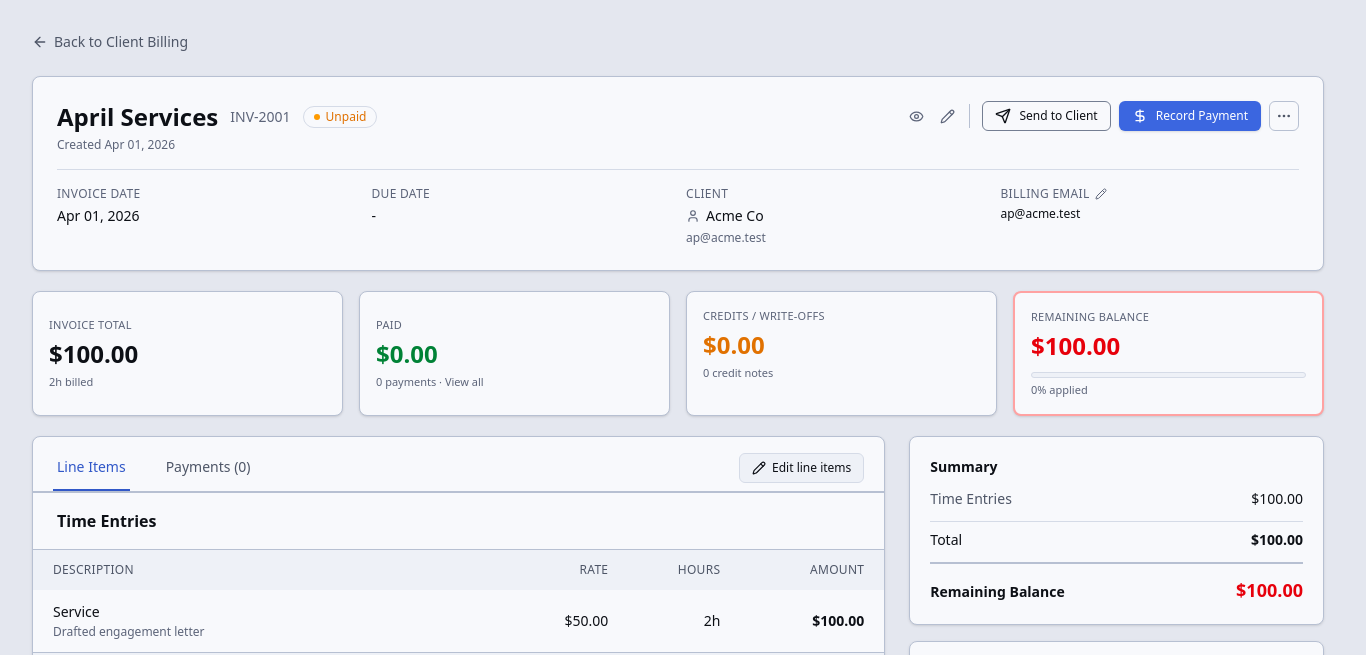
Scenario: a draft invoice › says the name is required instead of silently not saving
Click the button named "Edit invoice details".
click(948, 116)  # box [934,102,961,130]
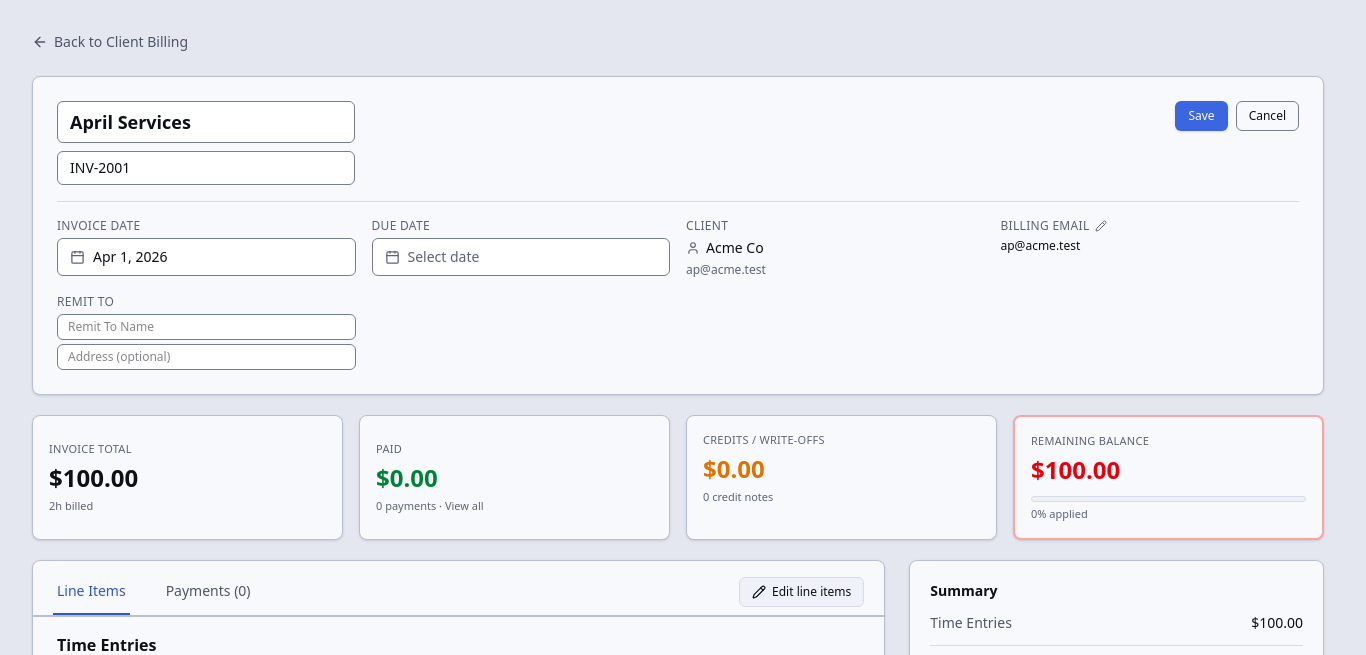
Clear the 1st field with placeholder "Invoice Name" at [206, 122], box [57,101,355,143]
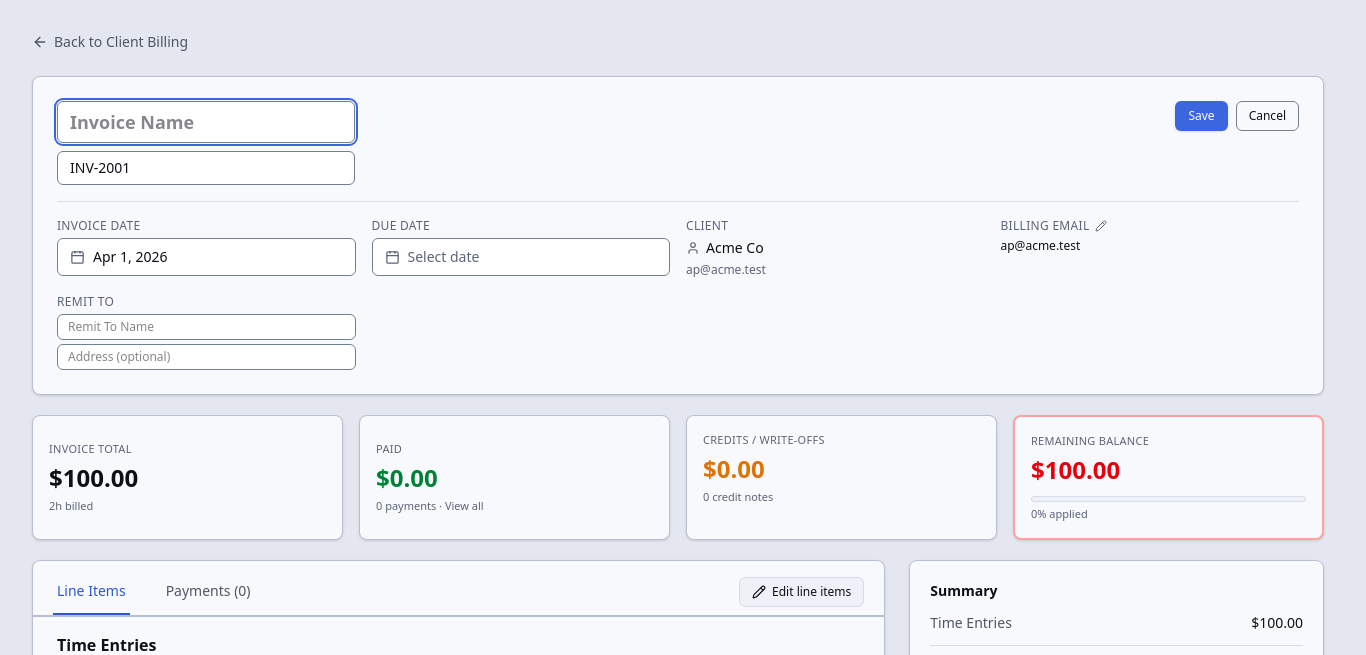
Click the button "Save".
click(1202, 116)  # box [1176,101,1228,131]
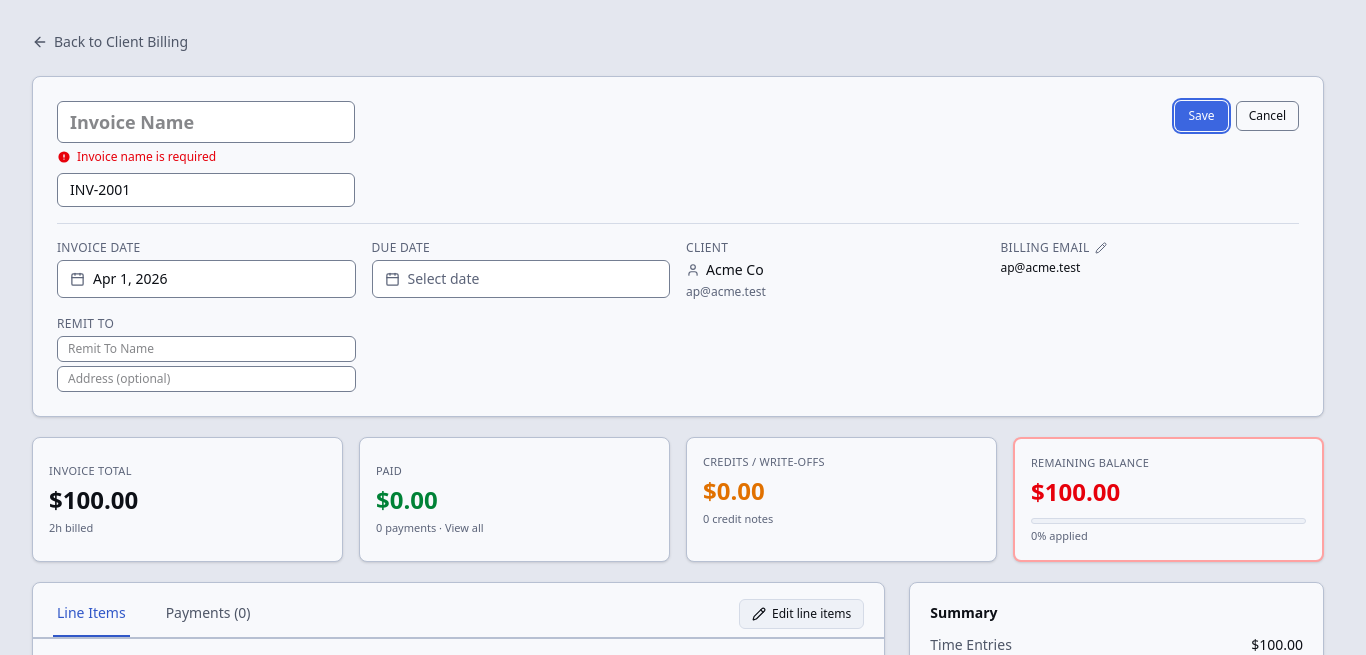
Now the text "Invoice name is required" is shown, box [77,149,216,165]
